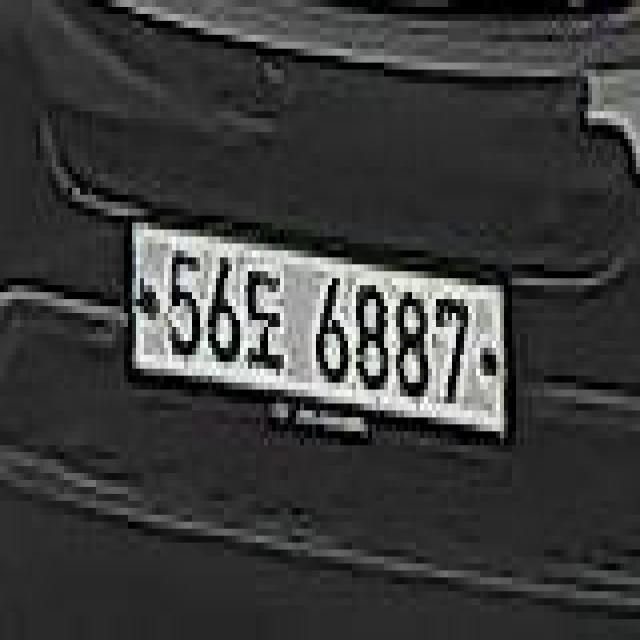illegal_plate: (126, 210, 514, 461)
